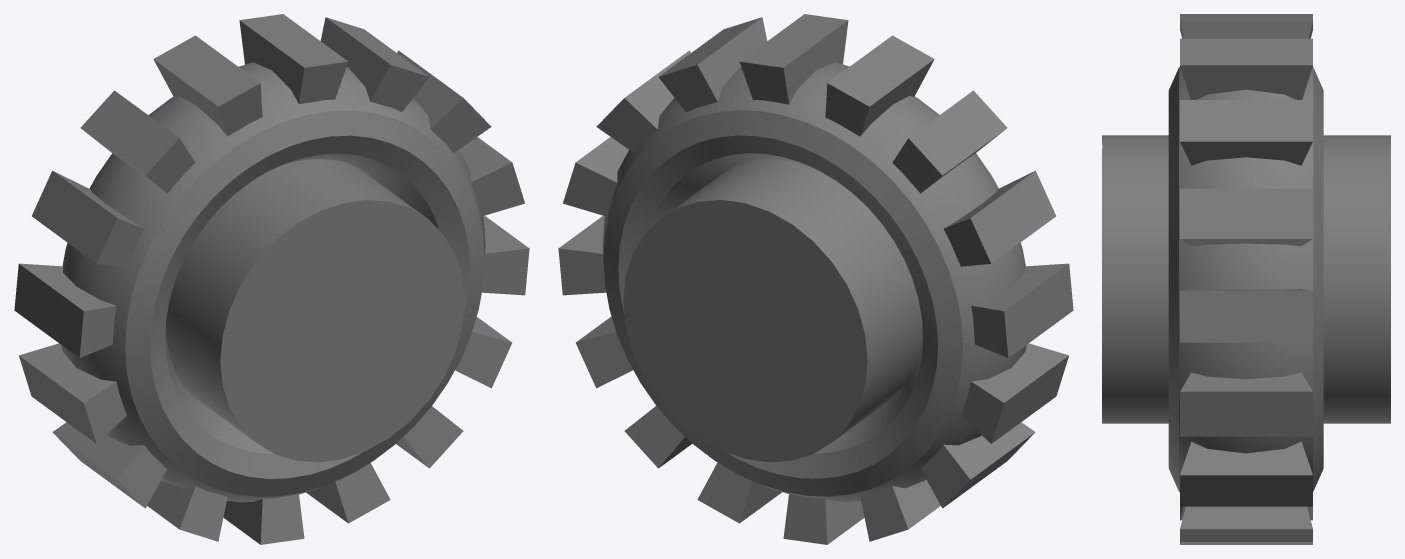
The model's file is Pully.fbx.
The picture shows the model from 3 angles, left to right: view 1: azimuth 30°, elevation 25°; view 2: azimuth 150°, elevation 25°; view 3: azimuth 270°, elevation 25°; orthographic projection. The views are drawn at different scales.
Parts seen in each view (by area): view 1: Torus; view 2: Torus; view 3: Torus.
Boxes of the visible parts, x1,y1,x2,y2 form: Torus: [14, 14, 529, 544]; Torus: [558, 14, 1073, 544]; Torus: [1102, 14, 1390, 544].
Size of the model in its own units: 2.43 by 2.43 by 1.32.
3 materials, 3 textured.
